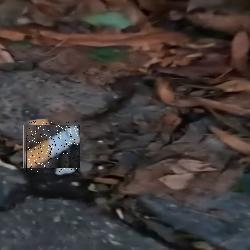restaffald: (26, 121, 78, 172)
